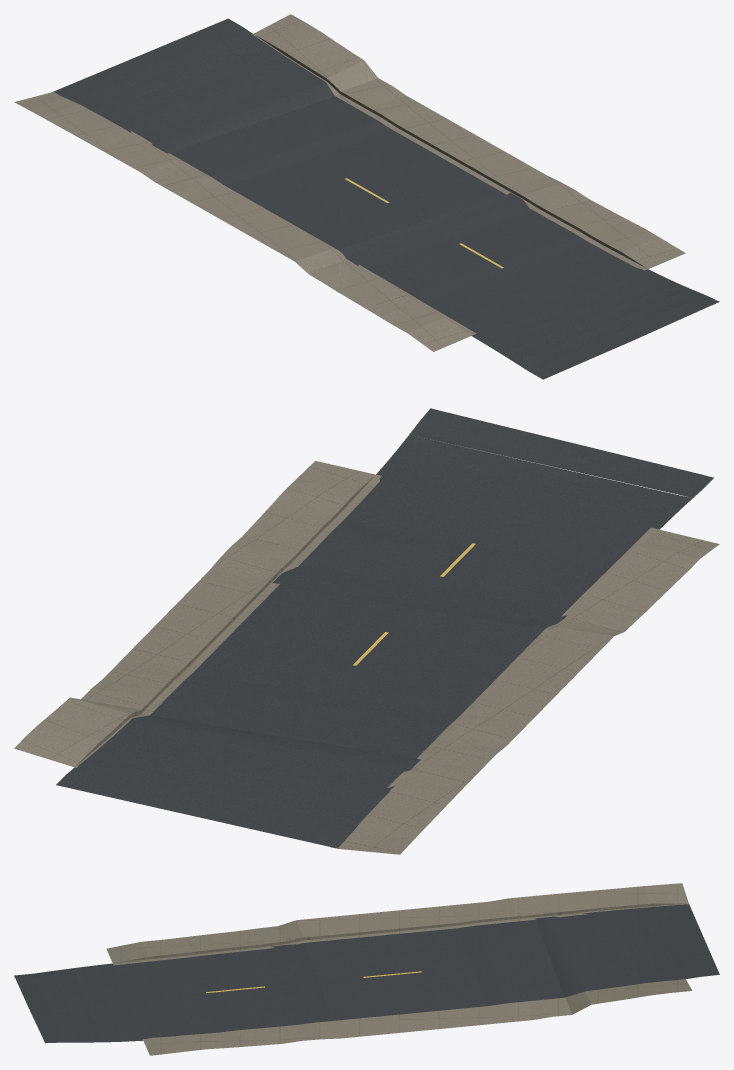
3 renders of one model, top to bottom at view 1: azimuth 30°, elevation 25°; view 2: azimuth 150°, elevation 25°; view 3: azimuth 270°, elevation 25°, orthographic. The views are drawn at different scales.
Parts seen in each view (by area): view 1: Carriageway, Clipped sidewalks with lowered crossing approaches, Concrete drainage margins, Raised curb faces; view 2: Carriageway, Clipped sidewalks with lowered crossing approaches, Concrete drainage margins, Raised curb faces; view 3: Carriageway, Clipped sidewalks with lowered crossing approaches, Raised curb faces, Concrete drainage margins.
Boxes of the visible parts, <box> form: Carriageway: <box>53,18,719,379</box>; Clipped sidewalks with lowered crossing approaches: <box>14,14,685,351</box>; Concrete drainage margins: <box>52,34,647,335</box>; Raised curb faces: <box>257,36,645,267</box>; Carriageway: <box>56,408,713,848</box>; Clipped sidewalks with lowered crossing approaches: <box>14,461,719,854</box>; Concrete drainage margins: <box>75,474,659,848</box>; Raised curb faces: <box>76,477,373,765</box>; Carriageway: <box>14,904,719,1043</box>; Clipped sidewalks with lowered crossing approaches: <box>106,883,692,1055</box>; Raised curb faces: <box>116,903,683,962</box>; Concrete drainage margins: <box>113,903,688,1040</box>.
Bounding box in the file's own units: 18.68 × 2.36 × 35.52.
